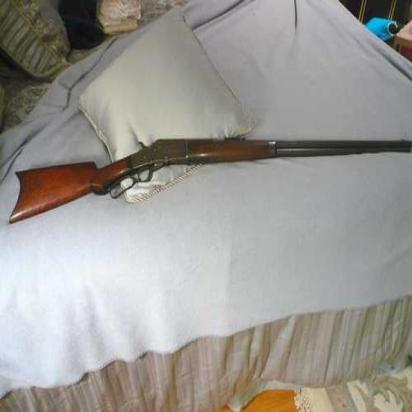Gun: (6, 97, 412, 224)
